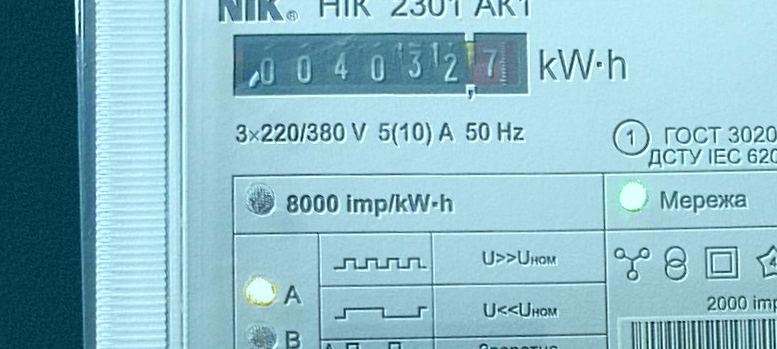0: (291, 51, 312, 85), (255, 52, 275, 86), (365, 50, 385, 83)
2: (439, 49, 458, 83)
3: (403, 47, 422, 79)
4: (328, 47, 349, 84)
7: (480, 45, 498, 78)
screen: (220, 18, 536, 113)
